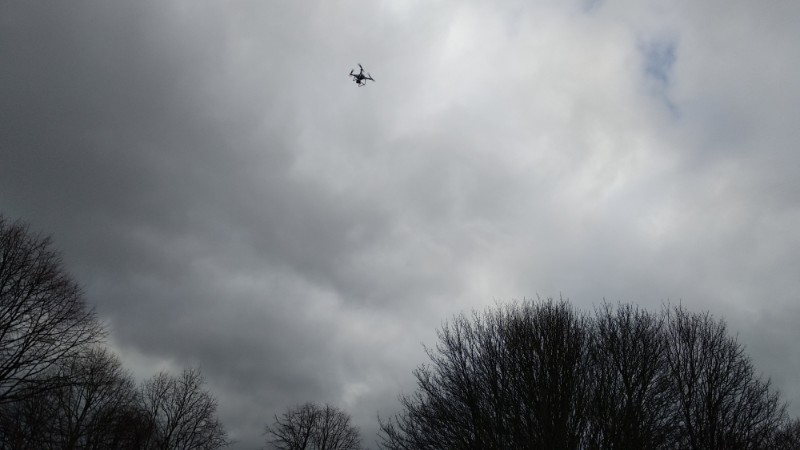drone: (349, 64, 375, 88)
